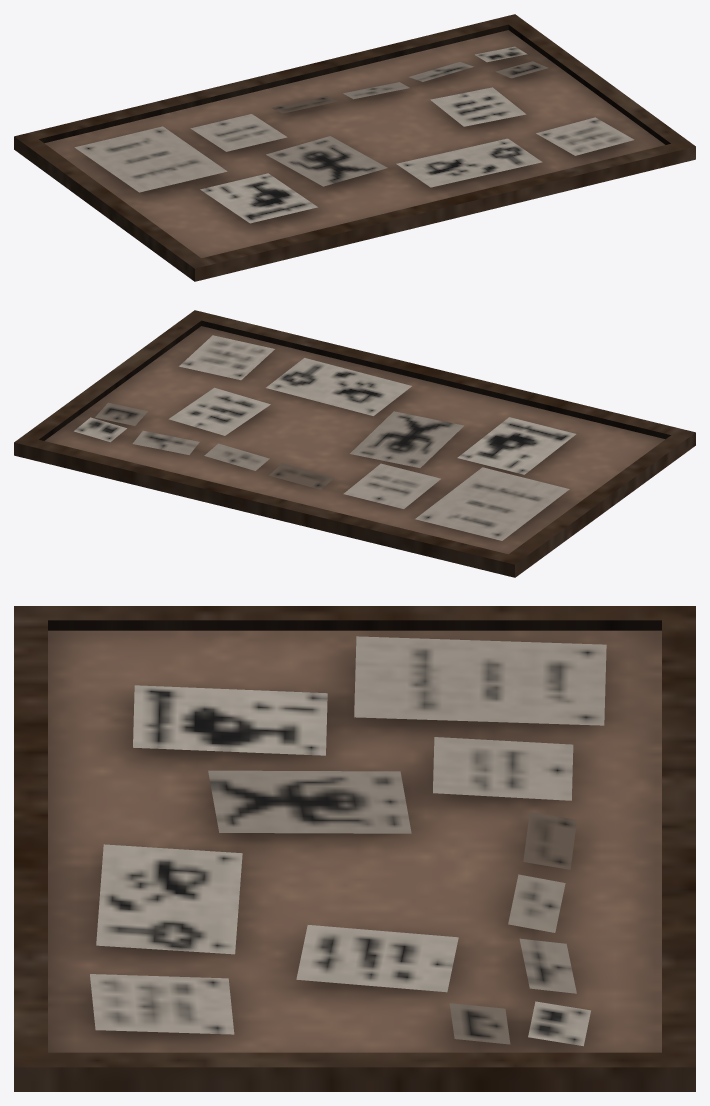
Rendered from bulletin_board.fbx.
The picture shows the model from 3 angles, top to bottom: view 1: azimuth 30°, elevation 25°; view 2: azimuth 150°, elevation 25°; view 3: azimuth 270°, elevation 25°; orthographic projection. The views are drawn at different scales.
Visible parts, largest first — view 1: bulletin_board; view 2: bulletin_board; view 3: bulletin_board.
Boxes of the visible parts, x1,y1,x2,y2 form: bulletin_board: [14, 14, 695, 281]; bulletin_board: [14, 310, 695, 577]; bulletin_board: [14, 606, 695, 1091].
Size of the model in its own units: 96 by 2.6 by 60.
Materials: 1 (1 with a texture image).
